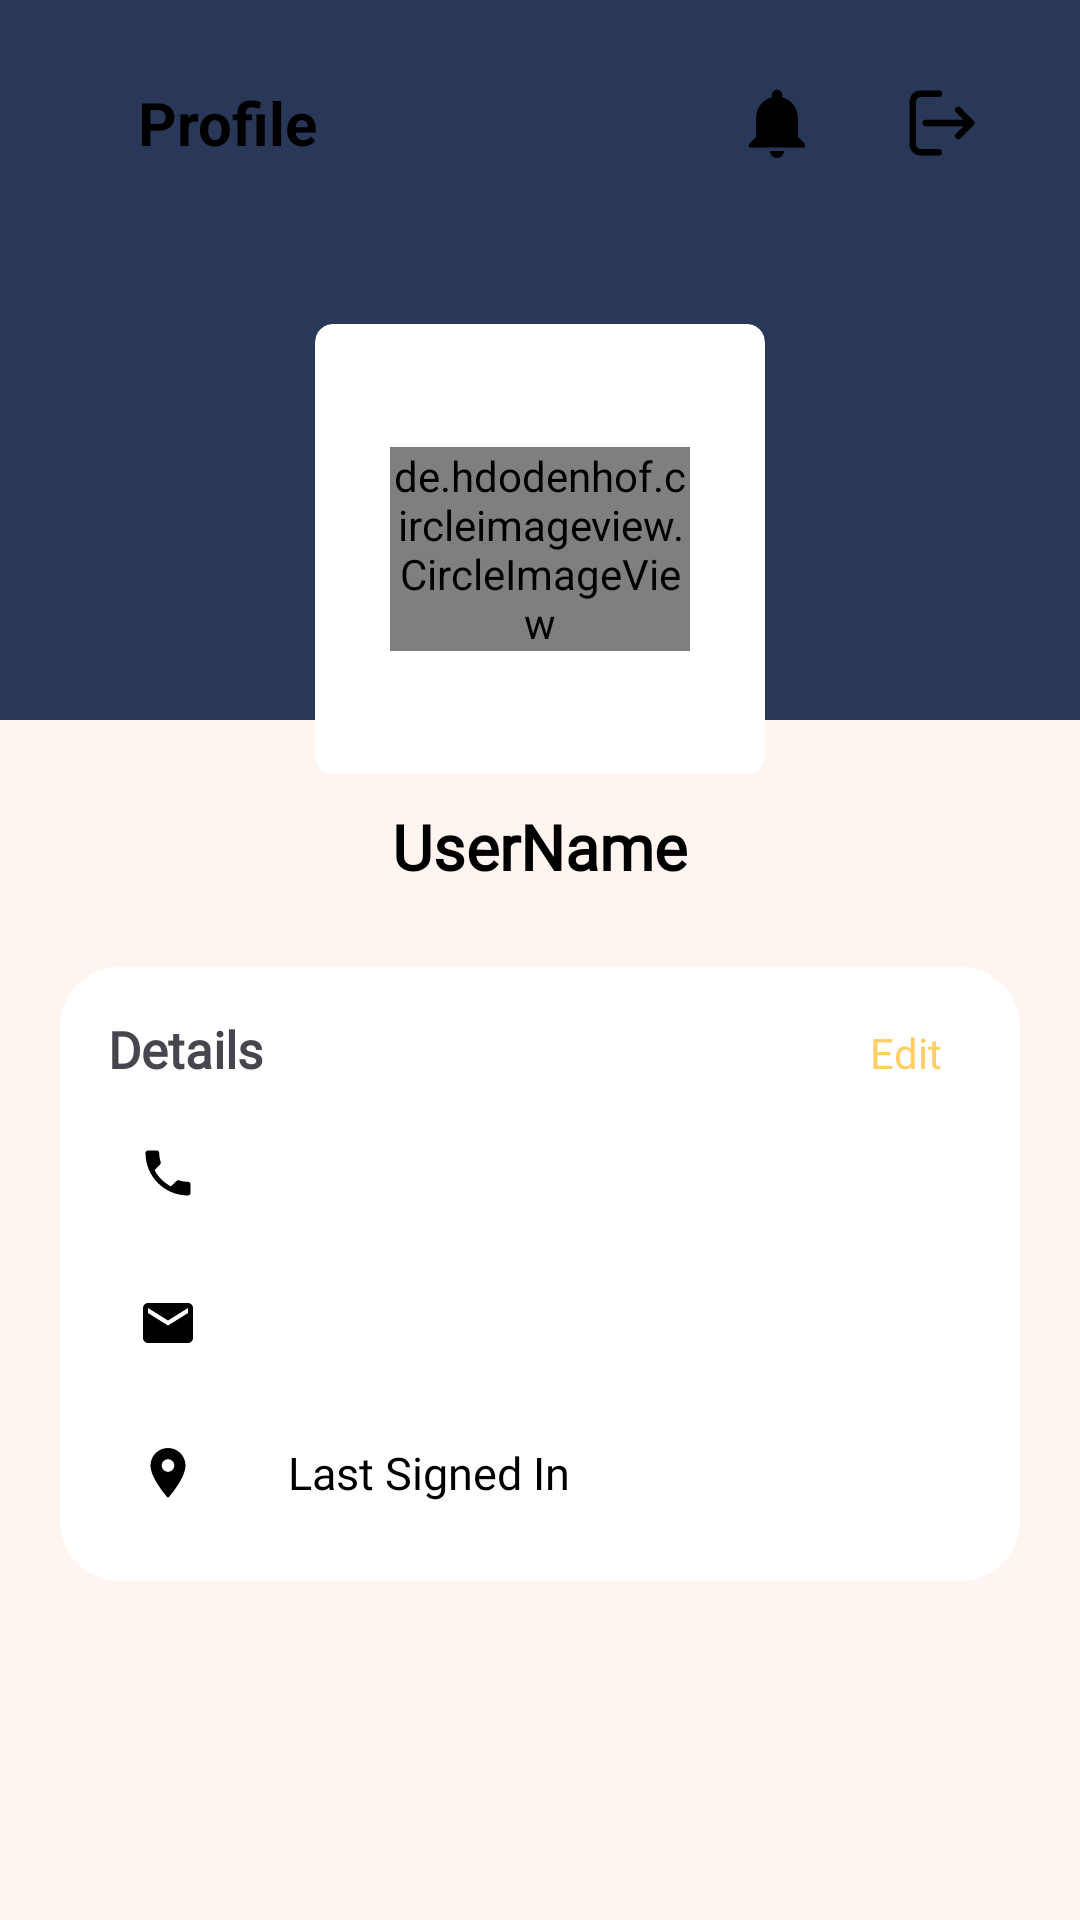

Screen size 1080px×1920px. Icon name, then its box in pixels as [x1, y1, x2, y2]:
call: [145, 1150, 191, 1196]
email: [143, 1303, 193, 1343]
location: [150, 1448, 186, 1498]
notifications: [749, 90, 805, 158]
signout: [909, 90, 975, 156]
